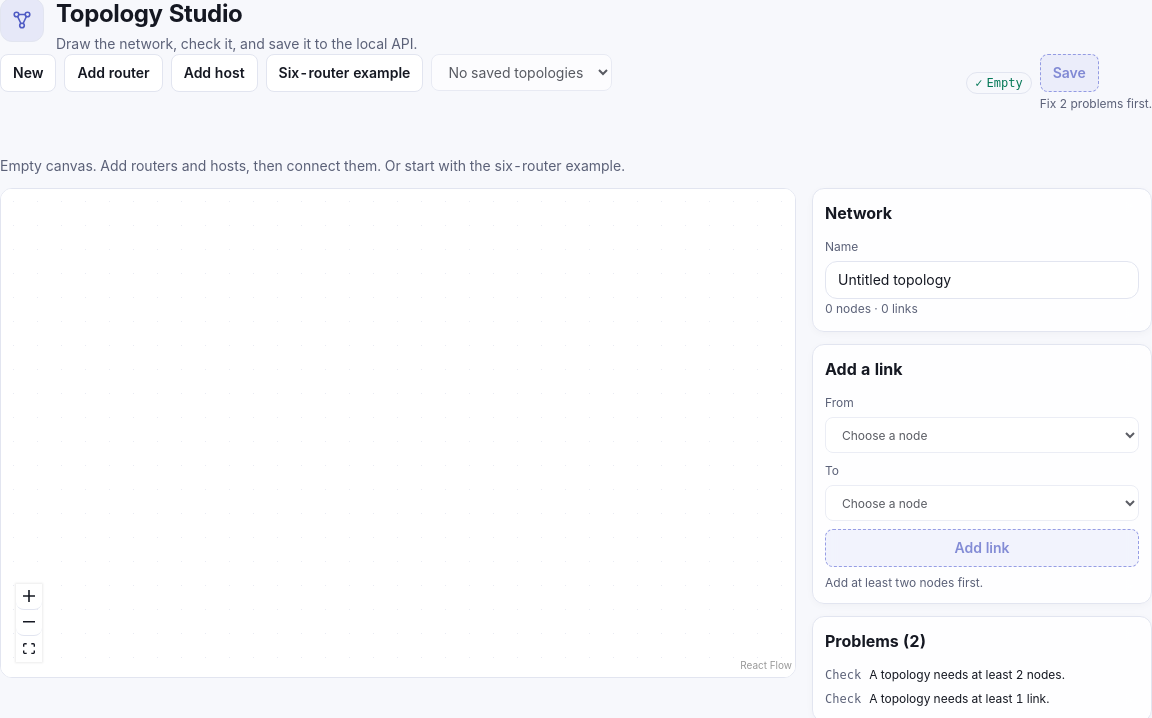
Test: create, save and reload a six-router network › saving again updates the same topology (version 2) instead of creating another
Click the button "Six-router example": click(344, 73) [266,54,423,92]
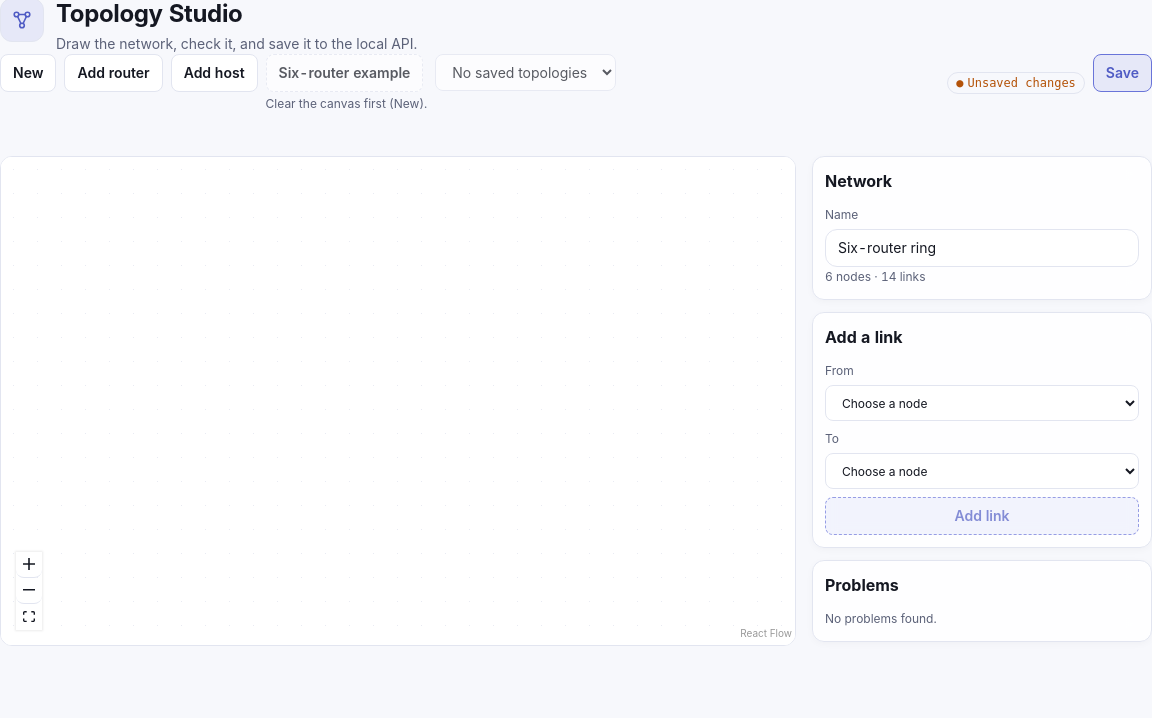
Click the button "Save": click(1122, 73) [1093,54,1151,92]
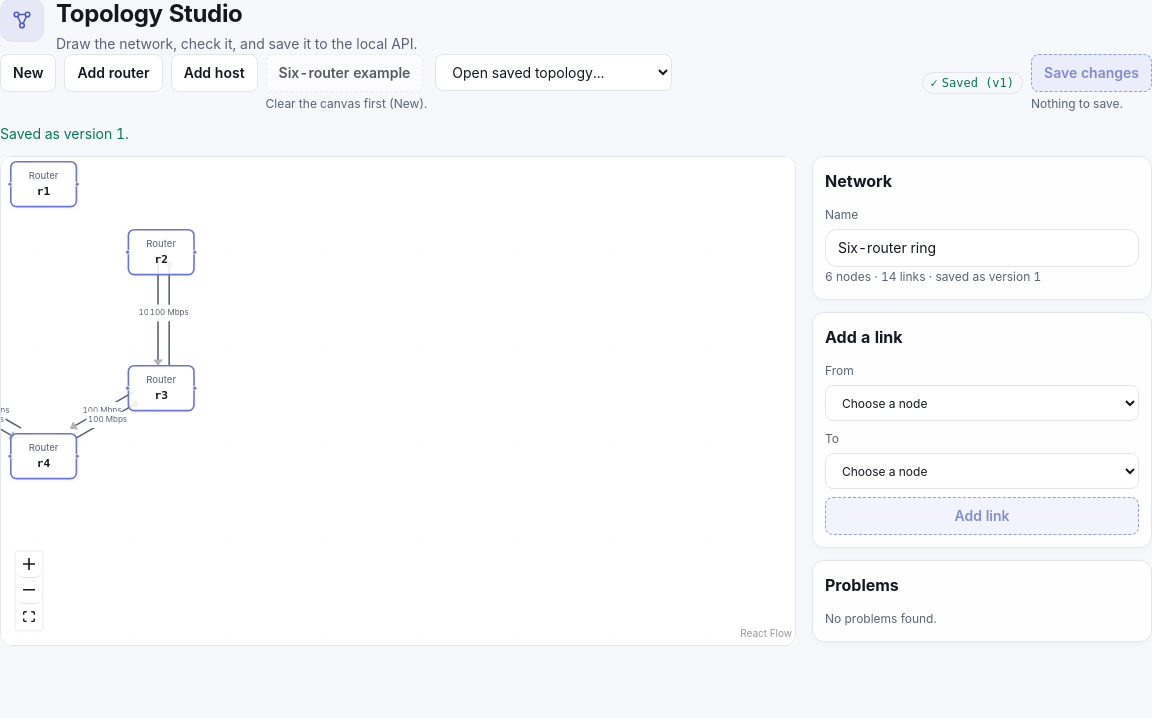
Expected: the text "Saved as version 1." is shown, [0,125,129,142]
Click the button "Add host": click(214, 73) [171,54,258,92]
(page scrolled)
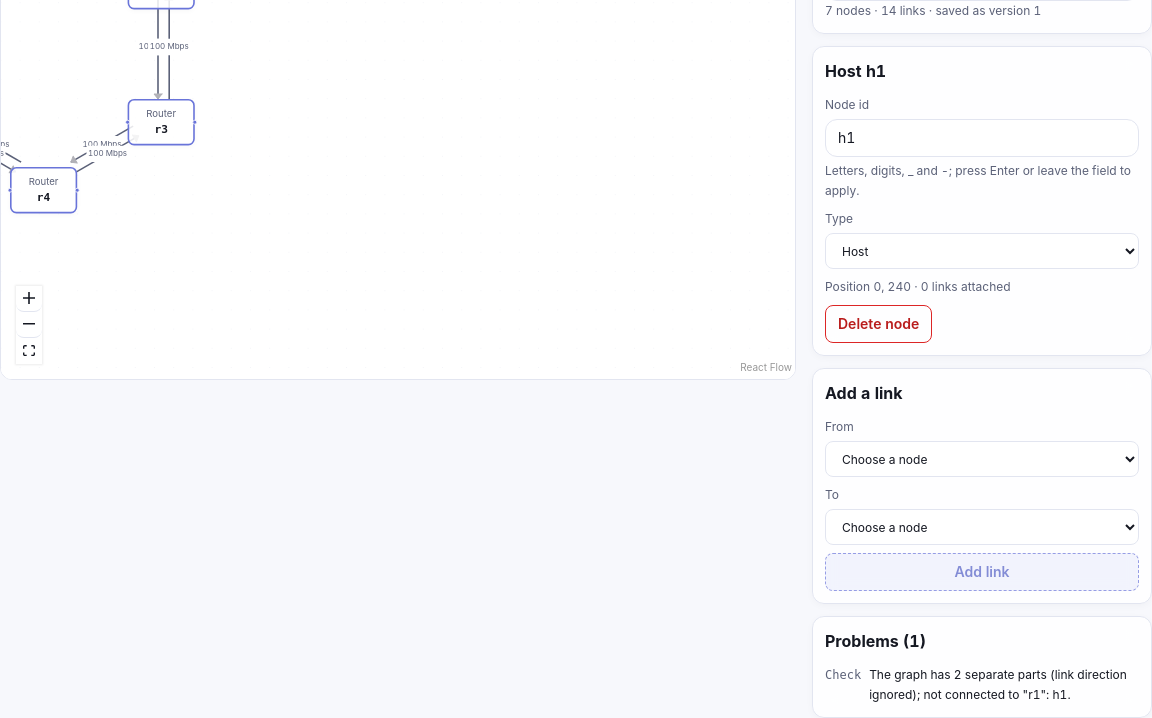
Select "h1" in the dropdown labelled "From": (982, 459) [825,441,1139,477]
Select "r1" in the dropdown labelled "To": (982, 527) [825,509,1139,545]
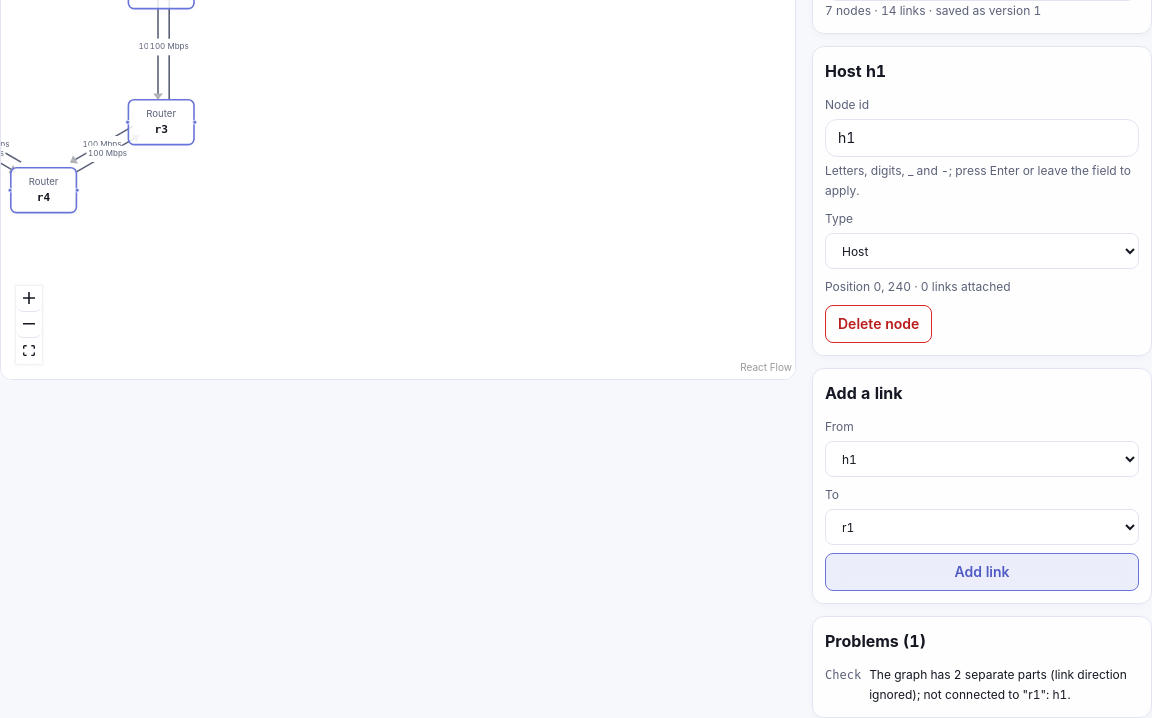
Click the button "Add link": click(982, 572) [825,553,1139,591]
(page scrolled)
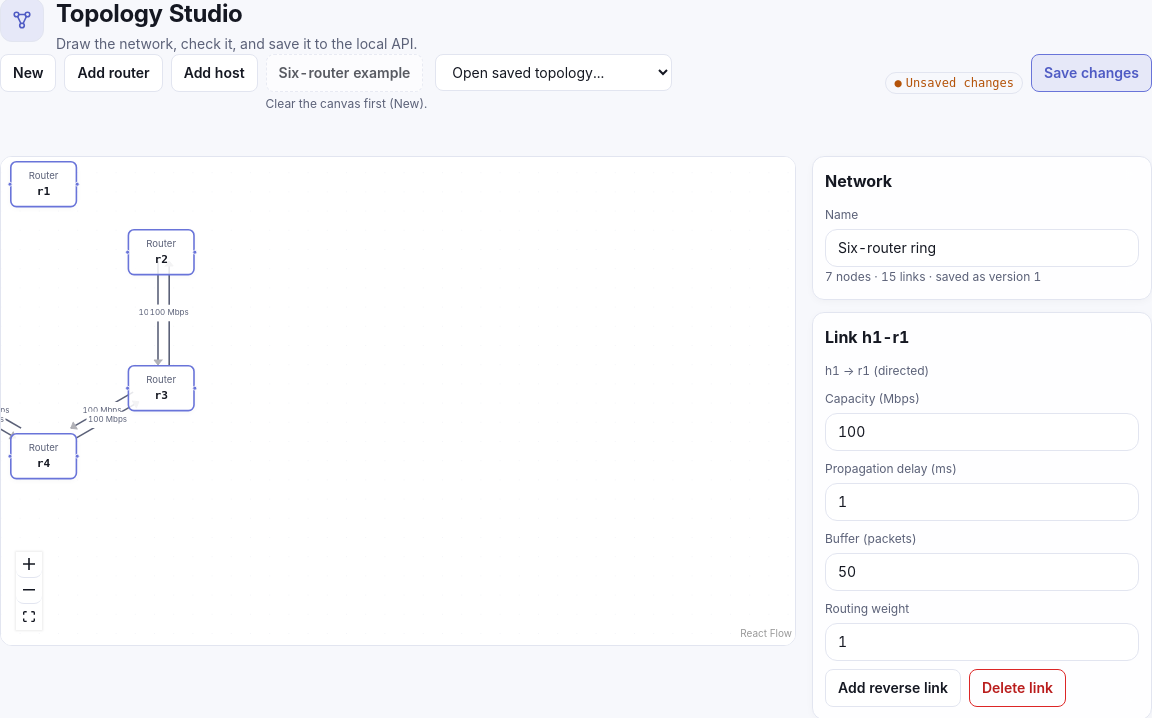
Click the button "Save changes": click(1092, 73) [1031,54,1151,92]
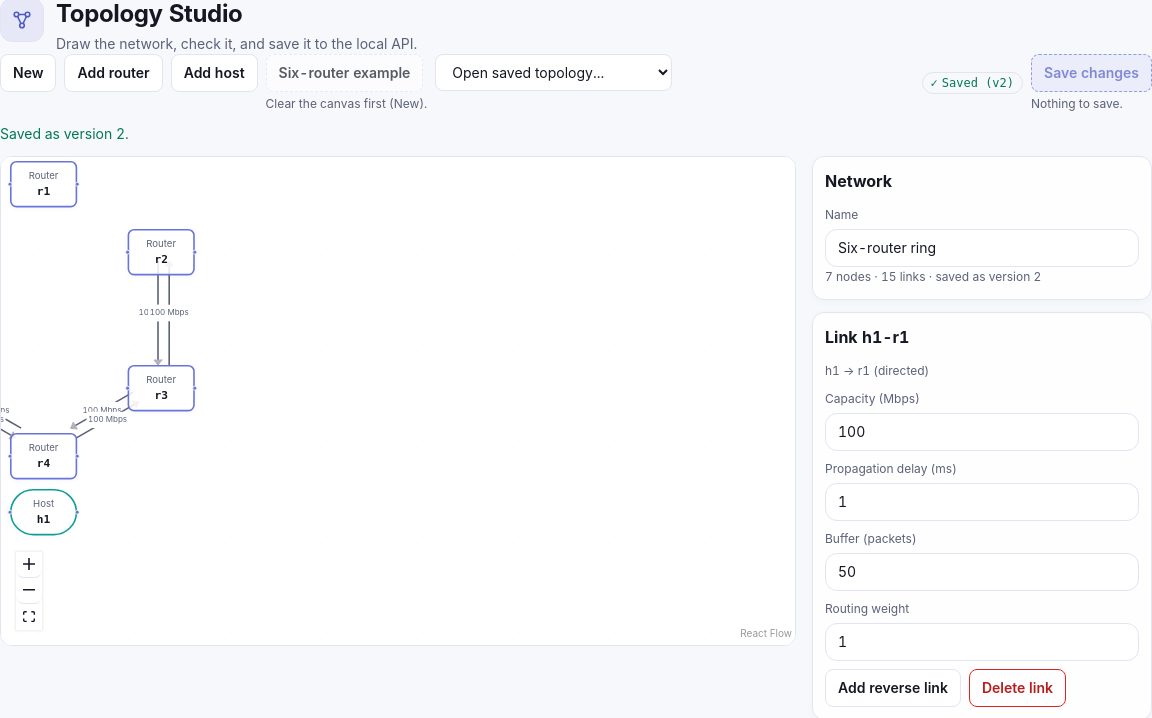
Expected: the text "Saved as version 2." is shown, [0,125,129,142]
